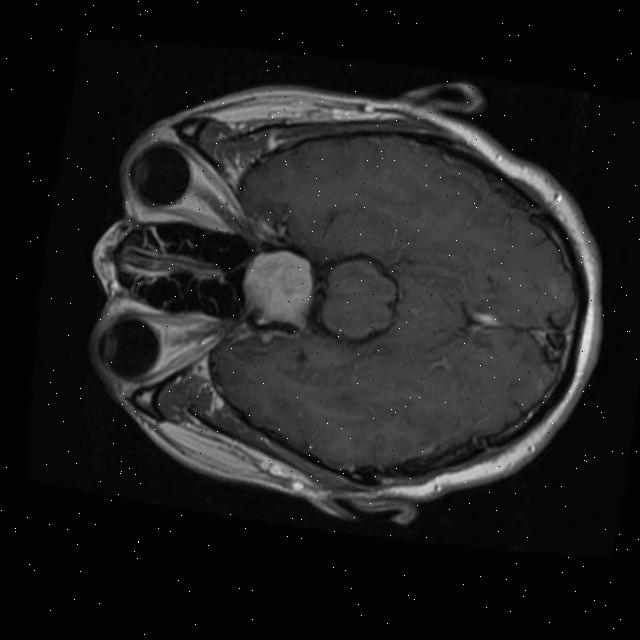Pituitary: (231, 242, 320, 332)
